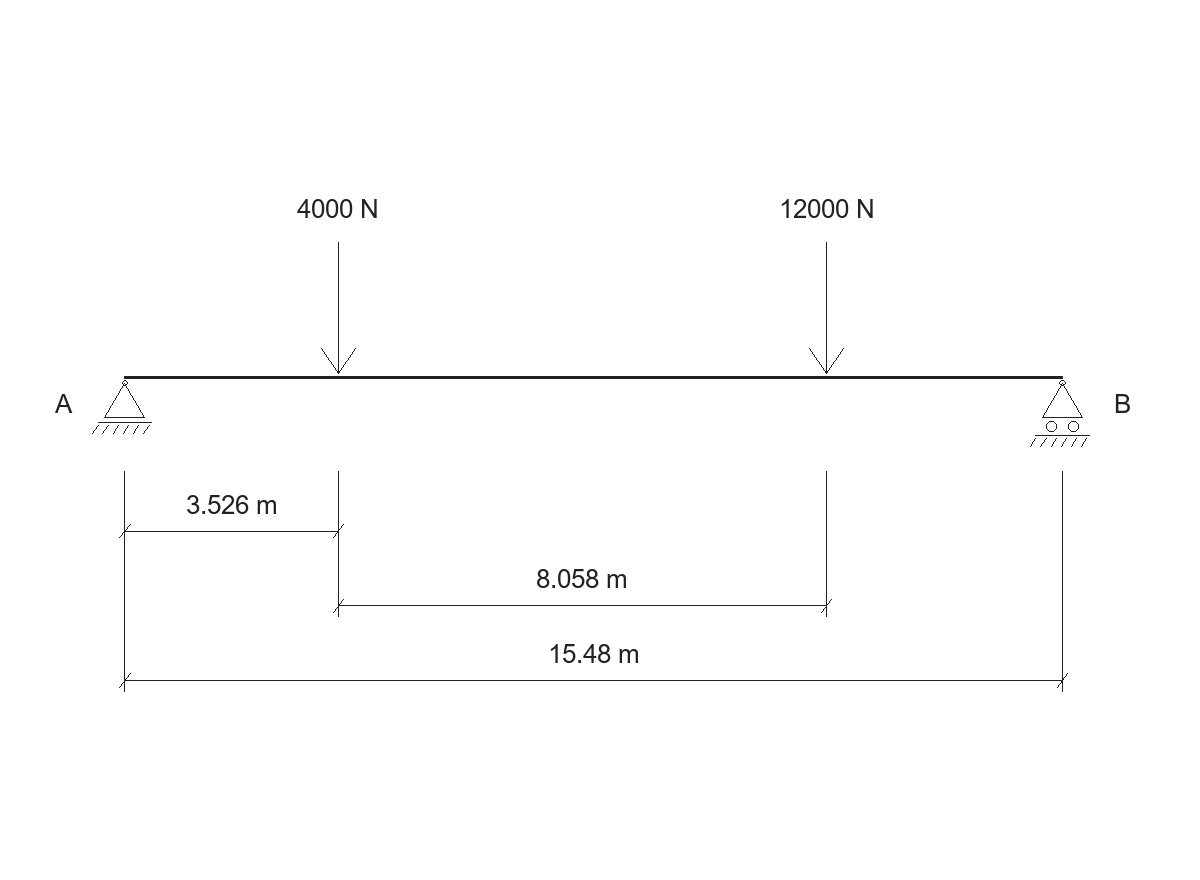pin_support: (92, 380, 152, 434)
point_load: (321, 242, 356, 374), (809, 242, 844, 374)
roller_support: (1030, 380, 1090, 447)
